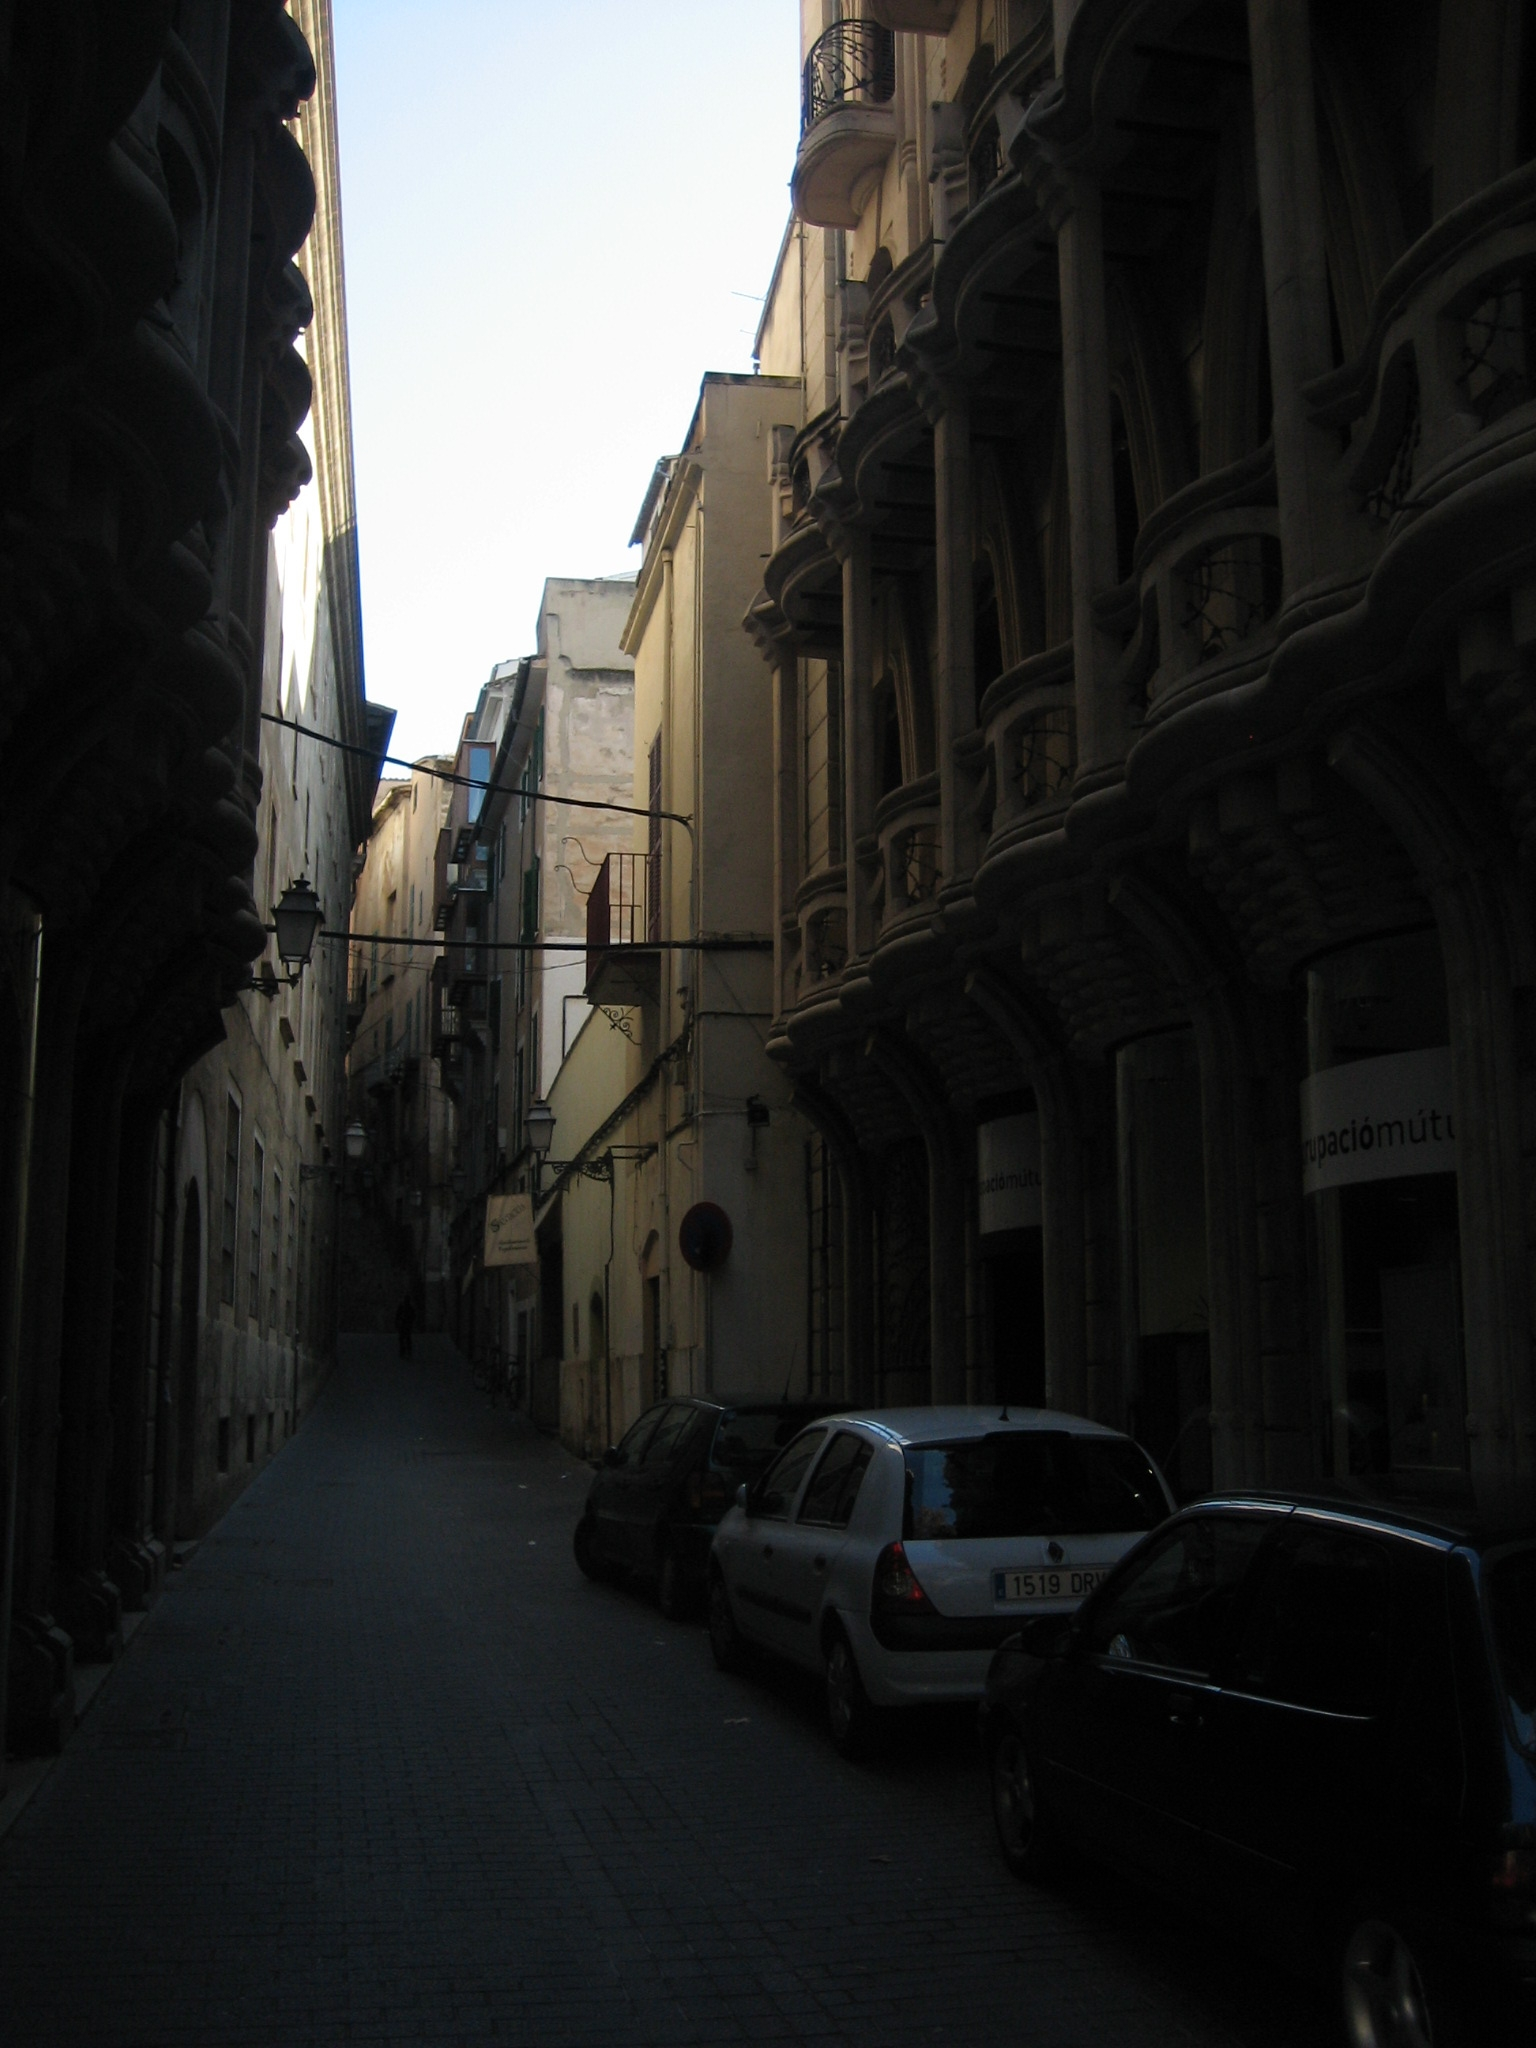car: (537, 1372, 870, 1629)
